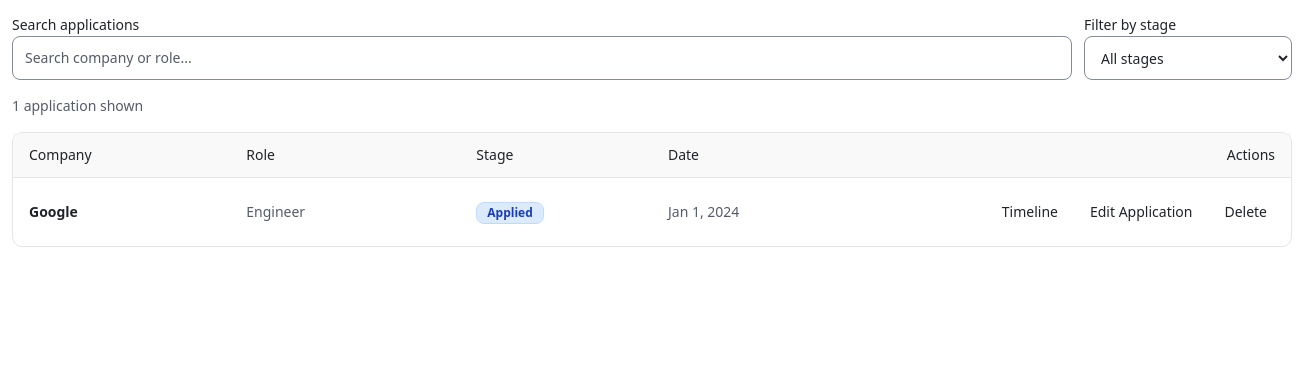
Test case: ApplicationTable › toggles timeline expansion
The image size is (1304, 368).
Click the button "Timeline": (1030, 212) top-left (990, 190), bottom-right (1070, 234)
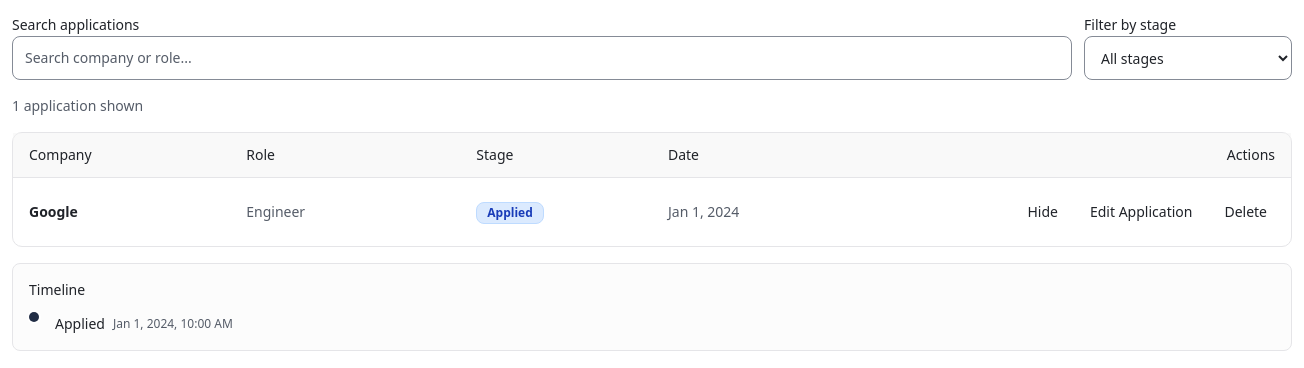
Click the button "Hide": (1043, 212) top-left (1016, 190), bottom-right (1070, 234)
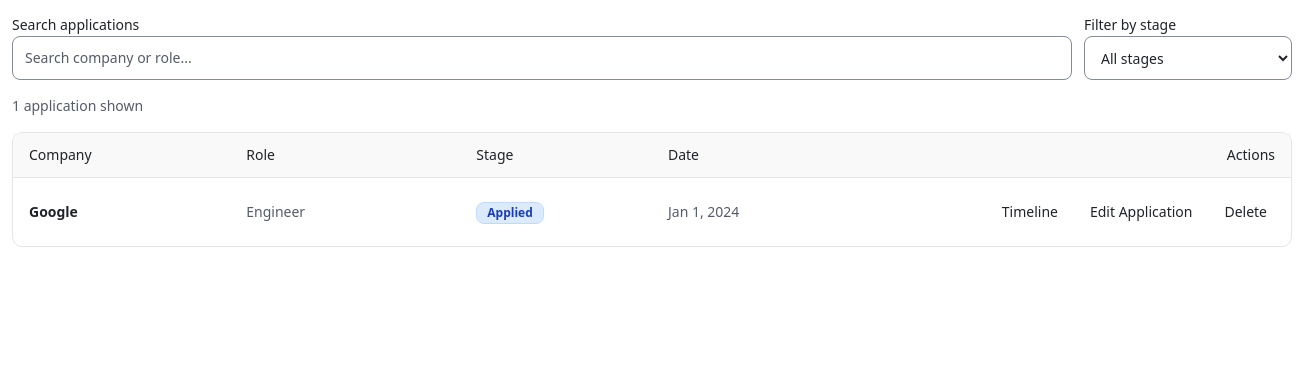
Expected: the button "Hide" is gone
